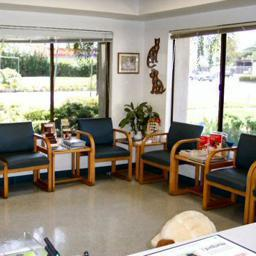Ventana: (2, 27, 106, 129), (170, 30, 255, 144)
